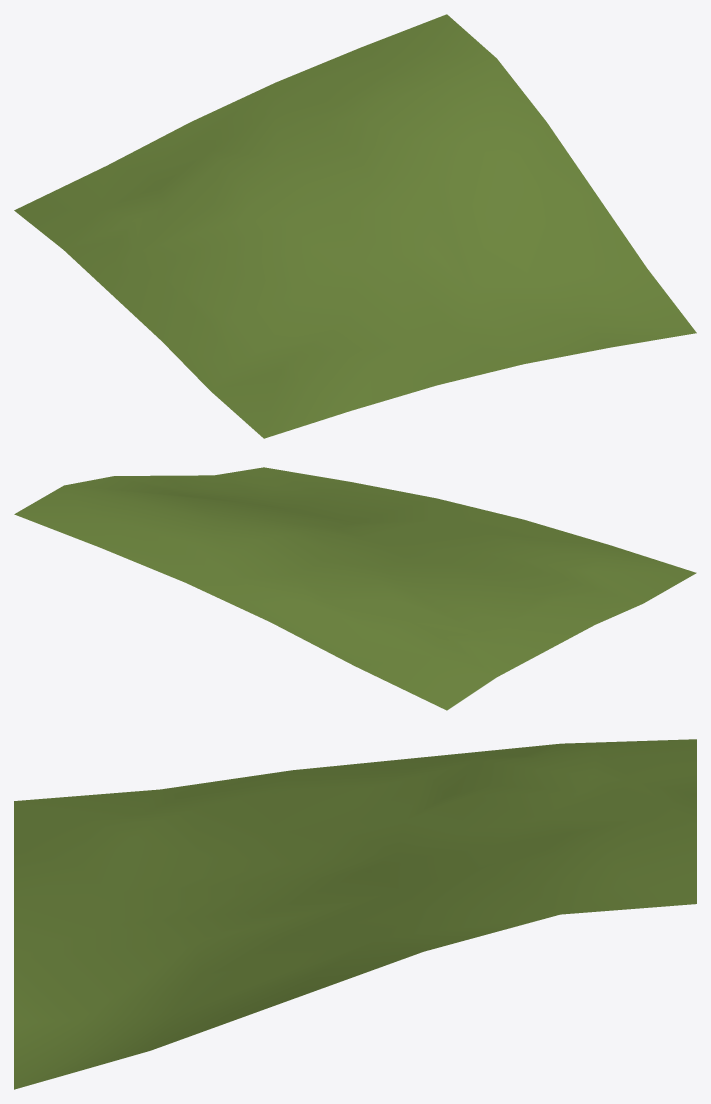
The model's file is rpgpp_ag_terrain_hill_01e_10x10m_2-3-0-1m.fbx.
3 renders of one model, top to bottom at view 1: azimuth 30°, elevation 25°; view 2: azimuth 150°, elevation 25°; view 3: azimuth 270°, elevation 25°, orthographic. The views are drawn at different scales.
Visible parts, largest first — view 1: rpgpp_ag_terrain_hill_01e_10x10m_2-3-0-1m; view 2: rpgpp_ag_terrain_hill_01e_10x10m_2-3-0-1m; view 3: rpgpp_ag_terrain_hill_01e_10x10m_2-3-0-1m.
Part boxes in pixels (box(x1,y1,x2,y2)): rpgpp_ag_terrain_hill_01e_10x10m_2-3-0-1m: box(14, 14, 696, 438); rpgpp_ag_terrain_hill_01e_10x10m_2-3-0-1m: box(14, 467, 696, 710); rpgpp_ag_terrain_hill_01e_10x10m_2-3-0-1m: box(14, 739, 696, 1089).
Size of the model in its own units: 10 by 3 by 10.
